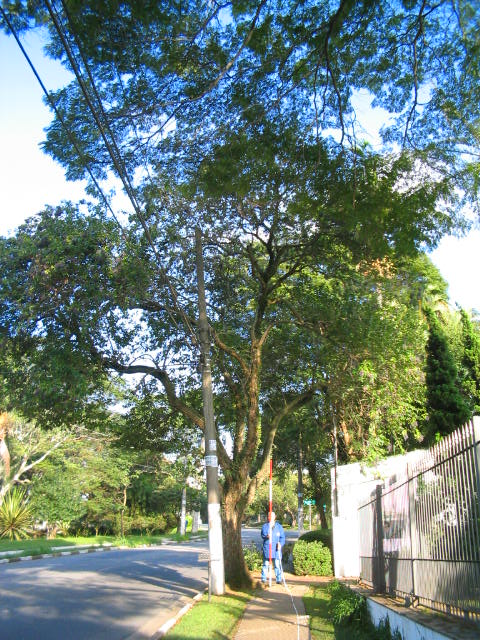crown: (4, 134, 448, 471)
stem: (218, 480, 265, 586)
stick: (262, 458, 279, 587)
tree: (2, 133, 451, 589)
